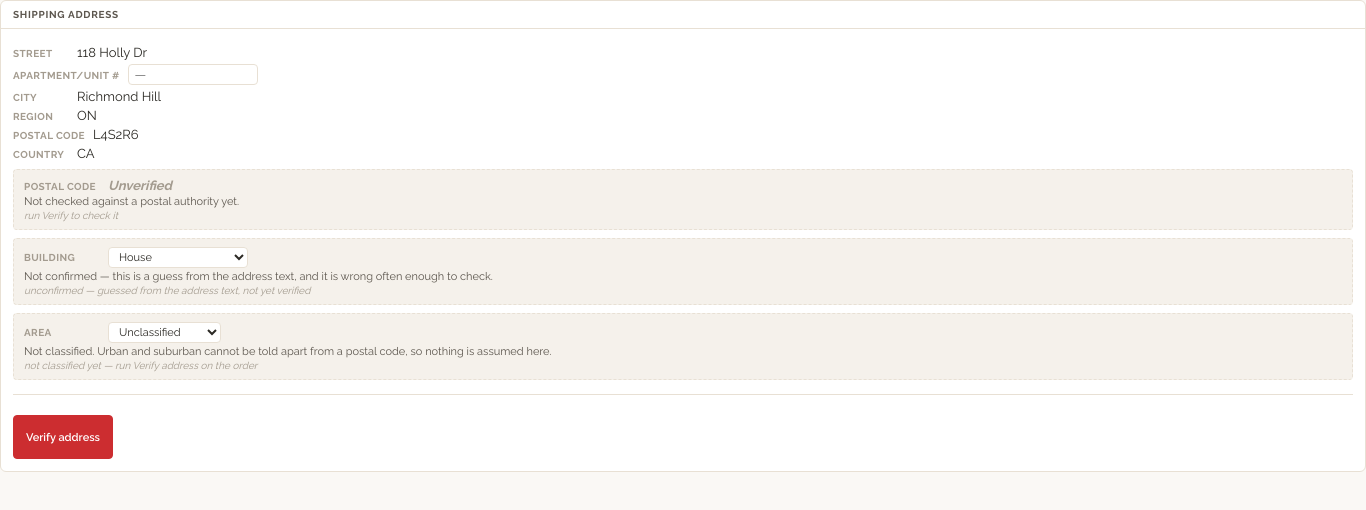
AddressCard — running a verify › distinguishes a building the model read from one a postal authority confirmed
The image size is (1366, 510).
Click the button "Verify address" at coordinates (63, 437), box x1=13 y1=415 x2=113 y2=459
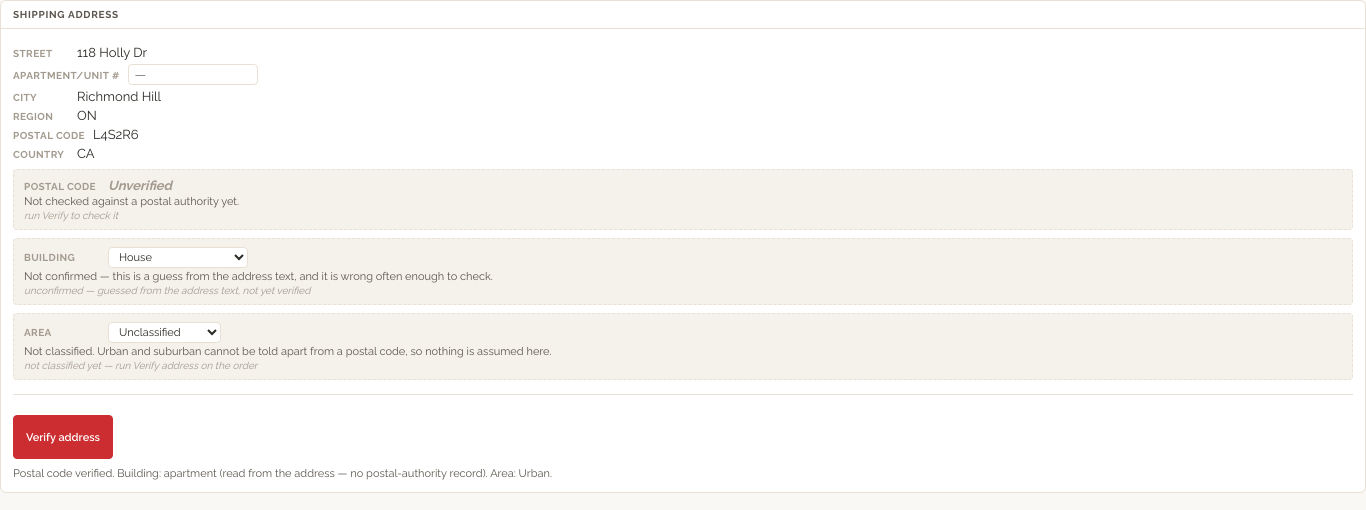
Check: the text "Building: apartment (read from the address — no postal-authority record)" is shown, box x1=13 y1=467 x2=552 y2=480
